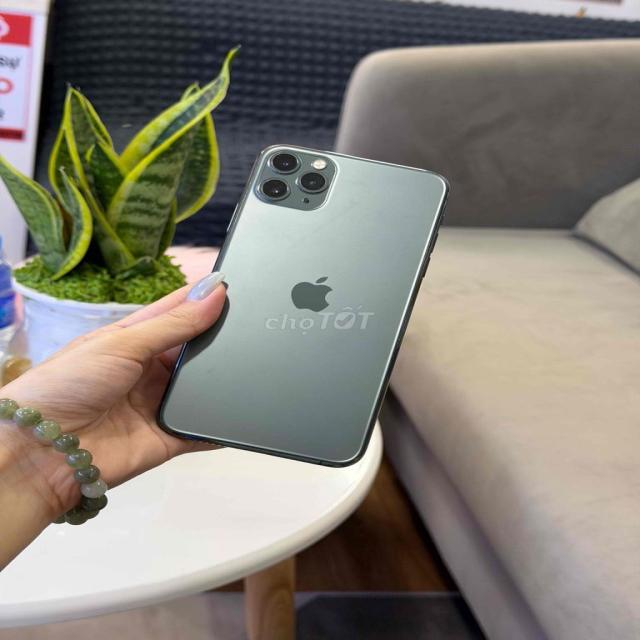gen_11: (148, 132, 456, 470)
